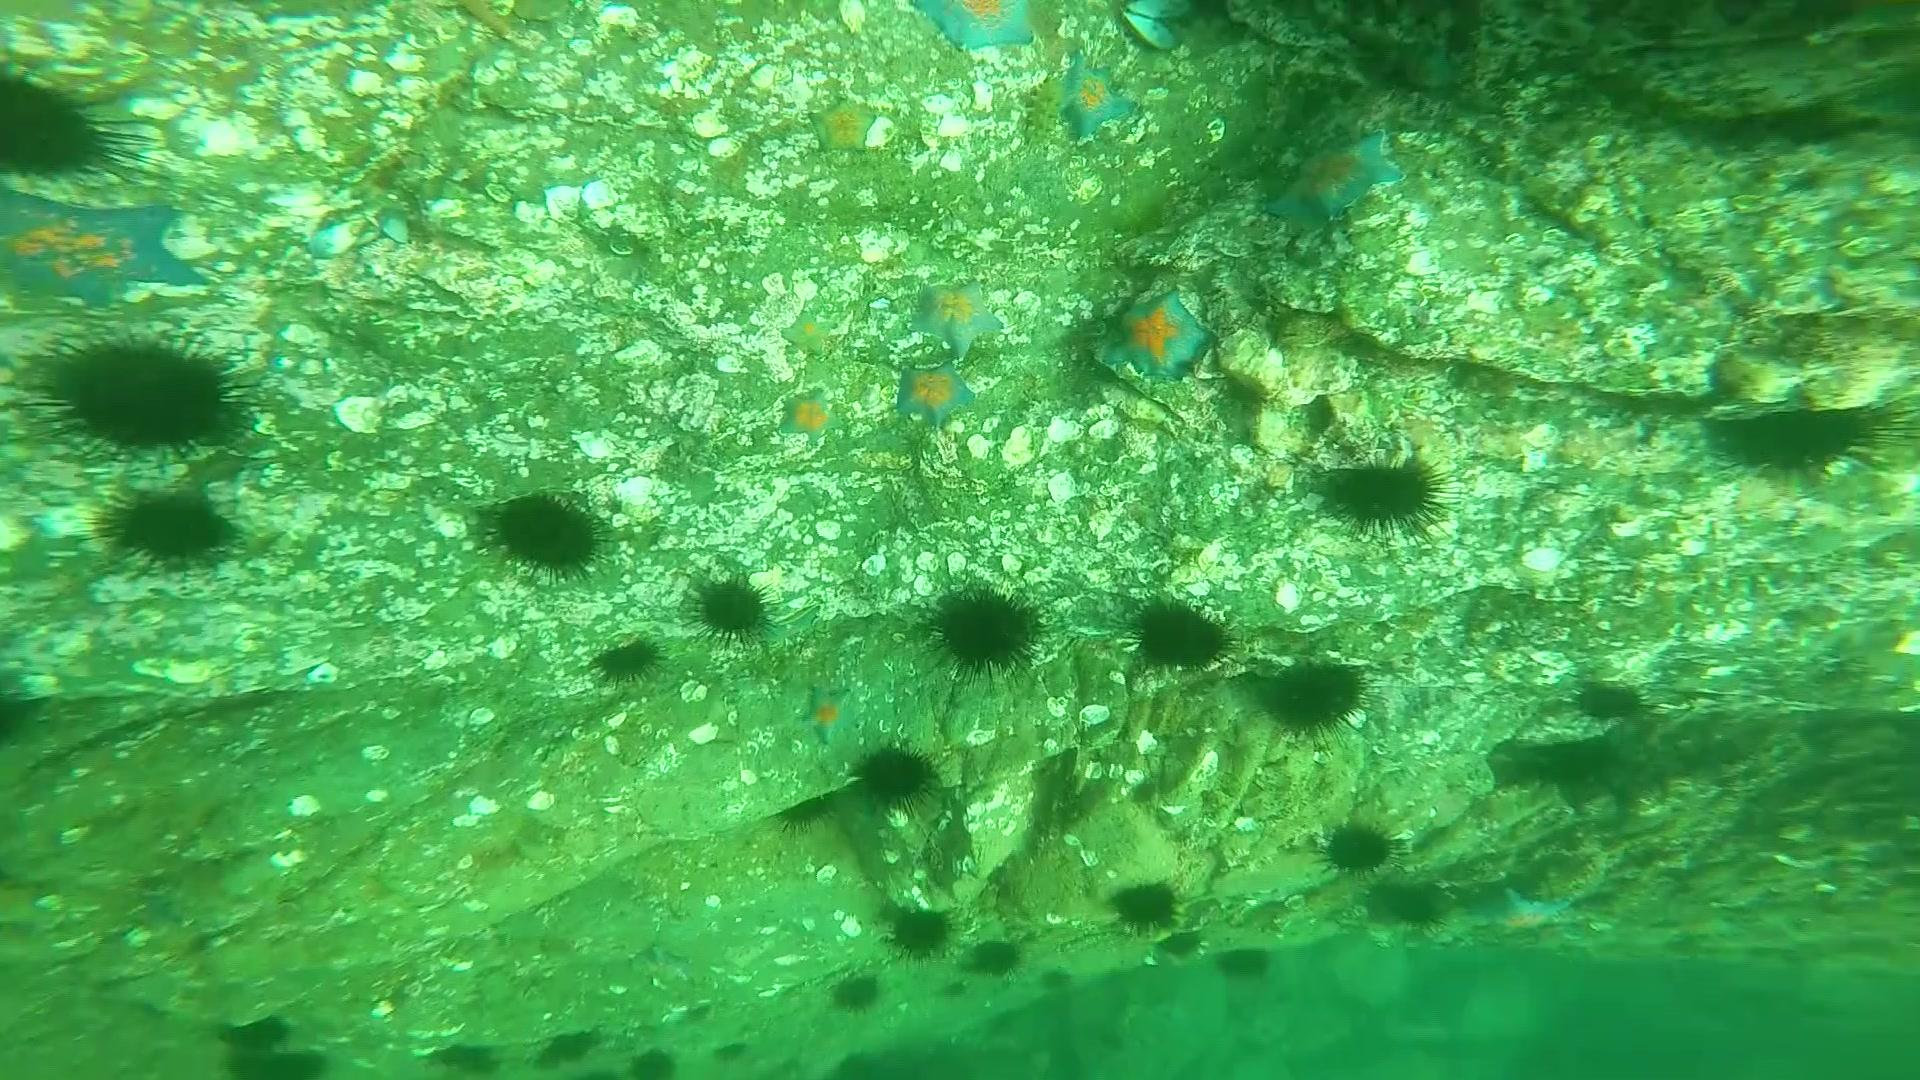echinus: (17, 327, 284, 471), (3, 54, 164, 200), (1717, 392, 1920, 498), (913, 572, 1062, 698), (79, 481, 252, 579), (477, 485, 625, 589), (1320, 451, 1464, 553), (1255, 655, 1390, 748), (1127, 595, 1246, 688), (675, 572, 782, 658), (853, 740, 952, 820), (1317, 819, 1406, 884), (585, 636, 676, 694), (884, 902, 963, 965), (1108, 880, 1185, 943), (1567, 679, 1658, 727), (1379, 878, 1448, 932), (775, 791, 844, 841), (225, 1048, 328, 1080), (222, 1013, 291, 1058), (537, 1029, 601, 1076), (967, 938, 1030, 981), (827, 975, 889, 1015), (439, 1042, 502, 1080), (1215, 947, 1273, 984), (630, 1047, 679, 1080), (1160, 928, 1205, 960), (1040, 964, 1076, 992), (713, 1040, 749, 1065)
holothurian: (1023, 76, 1069, 149)
starfish: (1, 200, 218, 316), (1265, 127, 1410, 243), (1098, 285, 1225, 386), (1050, 51, 1139, 149), (909, 278, 1006, 365), (915, 3, 1046, 61), (1469, 882, 1571, 940), (895, 363, 975, 429), (796, 679, 865, 749), (806, 96, 880, 158), (778, 388, 844, 446), (781, 313, 833, 364)
